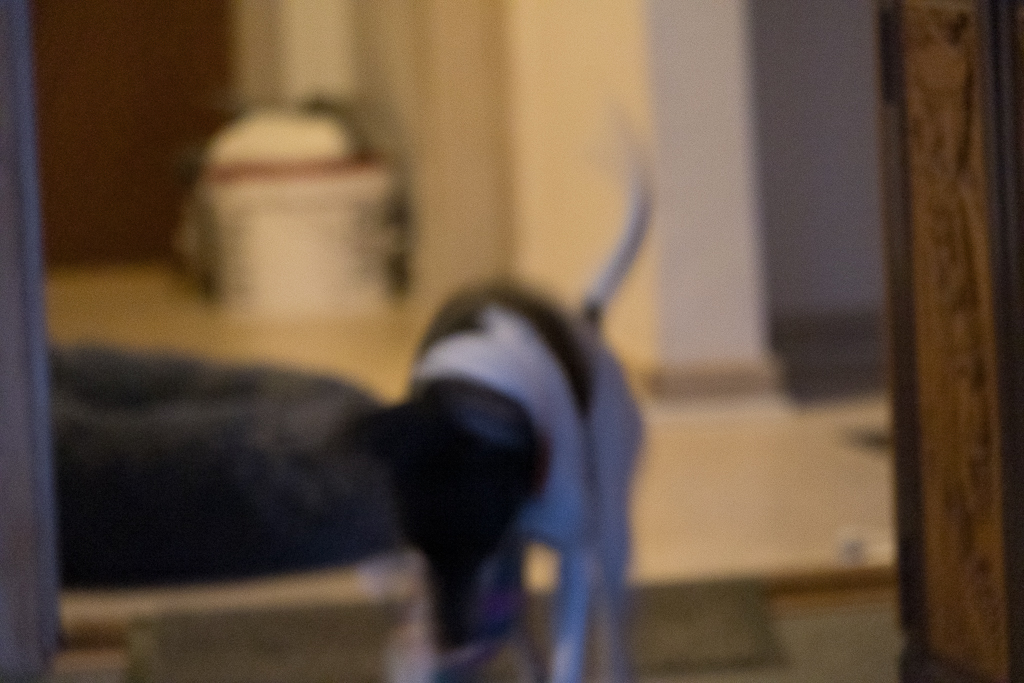Dog: (312, 85, 666, 683)
